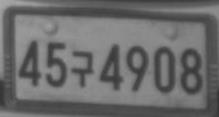0: (153, 45, 176, 93)
4: (98, 43, 125, 91), (18, 39, 42, 86)
5: (45, 41, 67, 87)
8: (179, 47, 203, 94)
9: (125, 44, 149, 92)
구: (70, 50, 94, 86)
